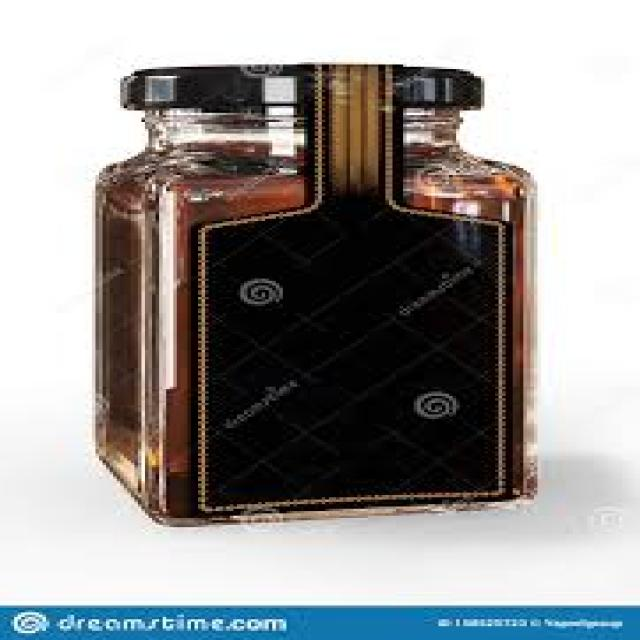glass: (96, 106, 538, 525)
metal: (117, 62, 477, 108)
